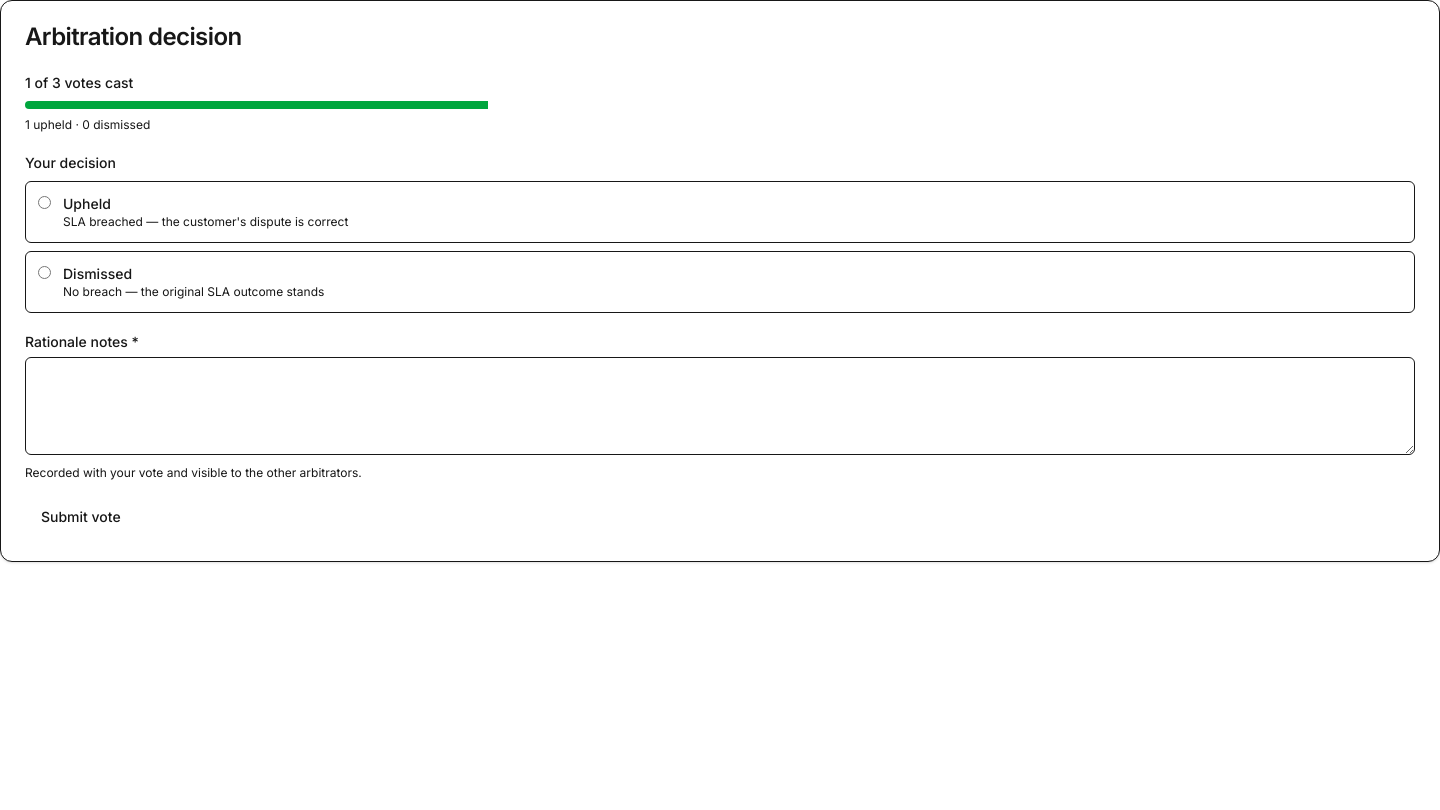
Scenario: ArbitratorVotePanel › validation › does not submit without a rationale
Click the radio button labelled "Upheld SLA breached — the customer's dispute is correct" at (44, 202), box [38,196,51,209]
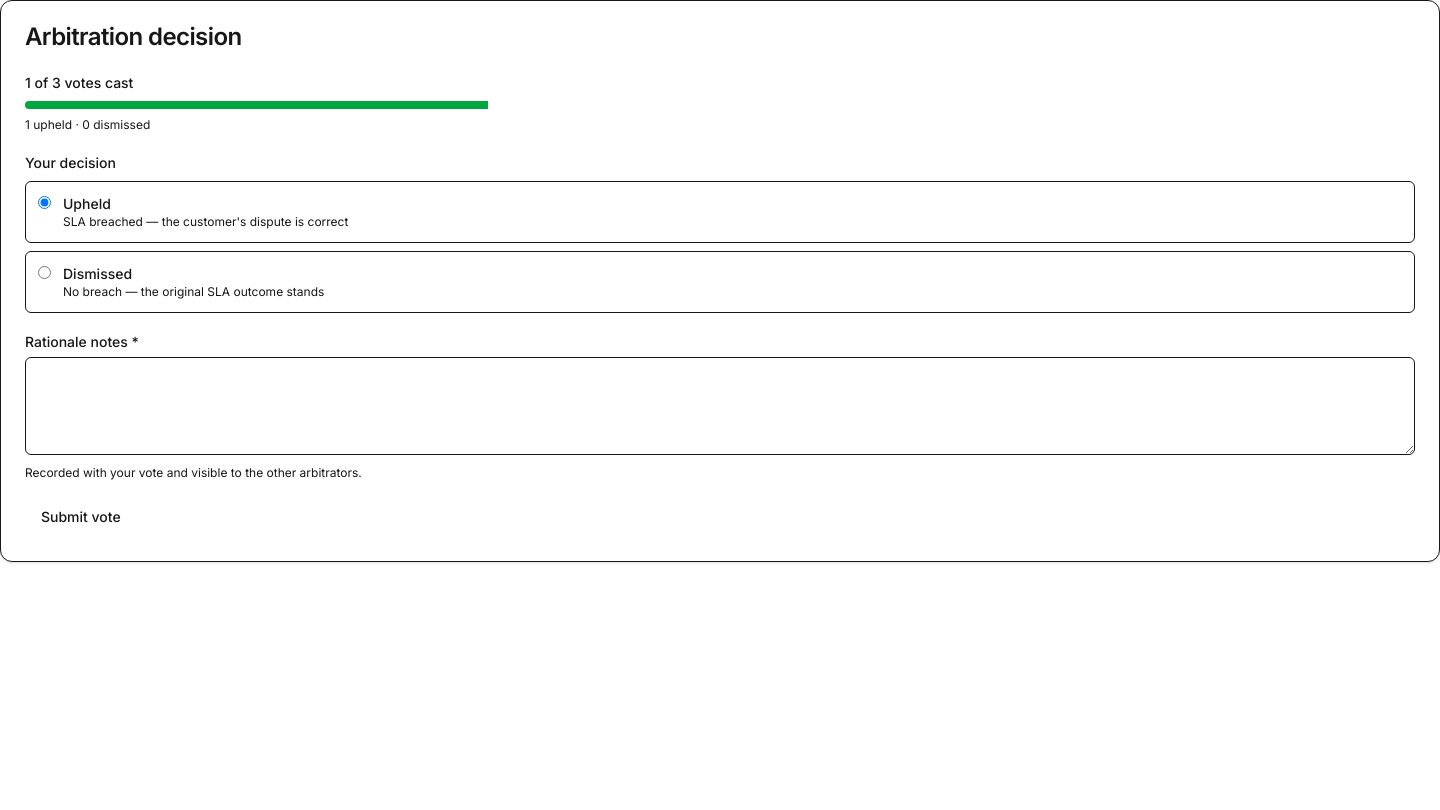
Click the button "Submit vote" at (81, 517), box [25,497,137,537]
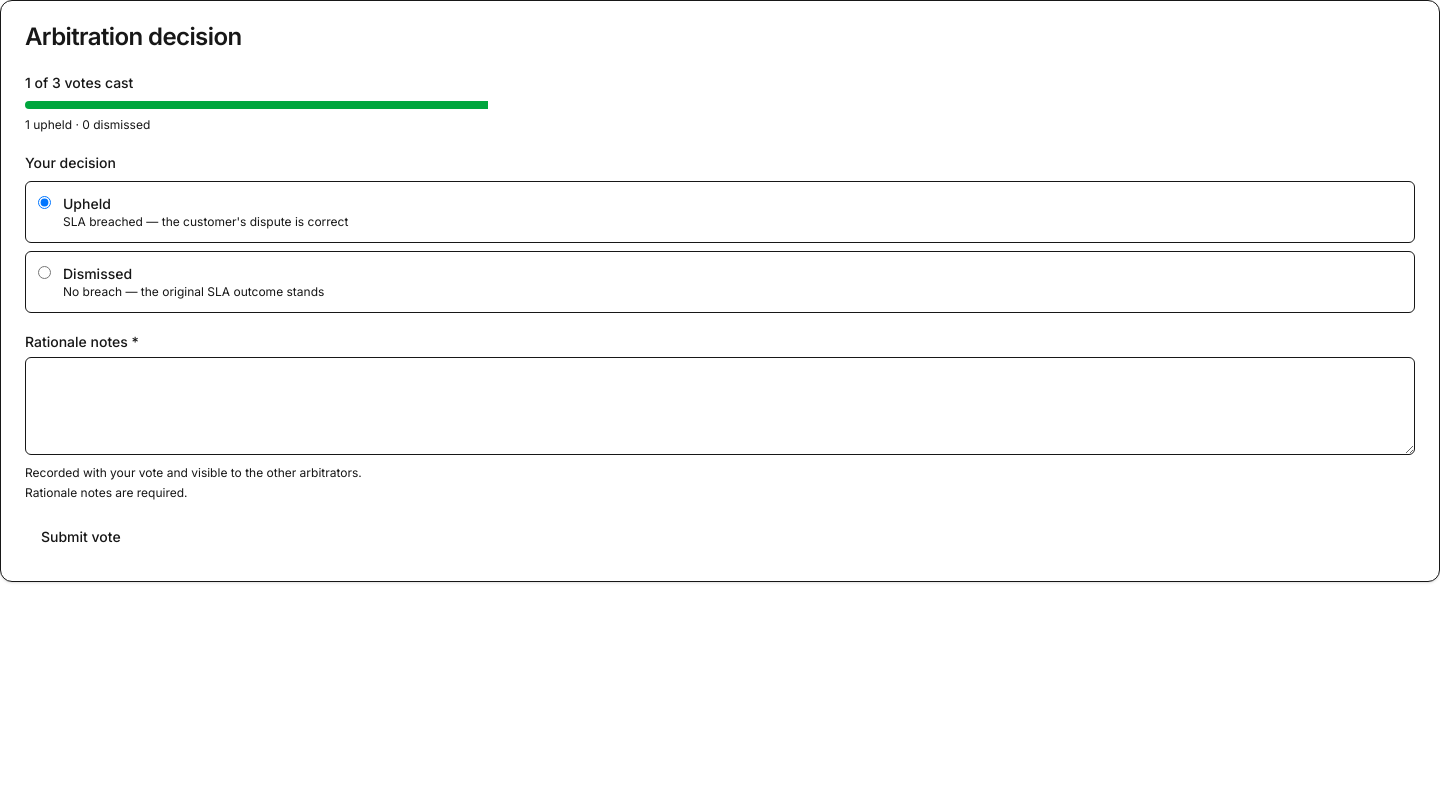
expect the text "Rationale notes are required." is shown: met, box [25,485,188,500]
